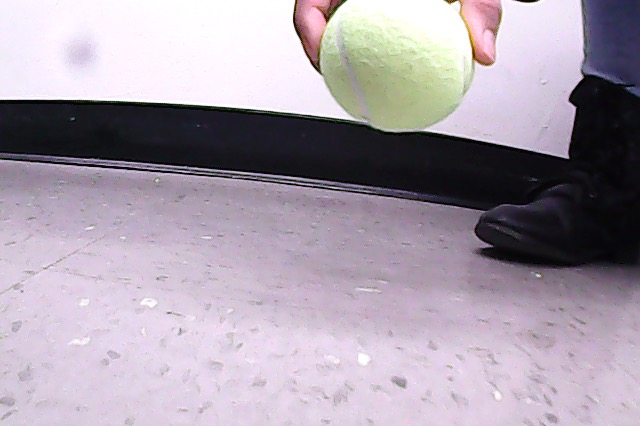ball: (321, 1, 477, 132)
